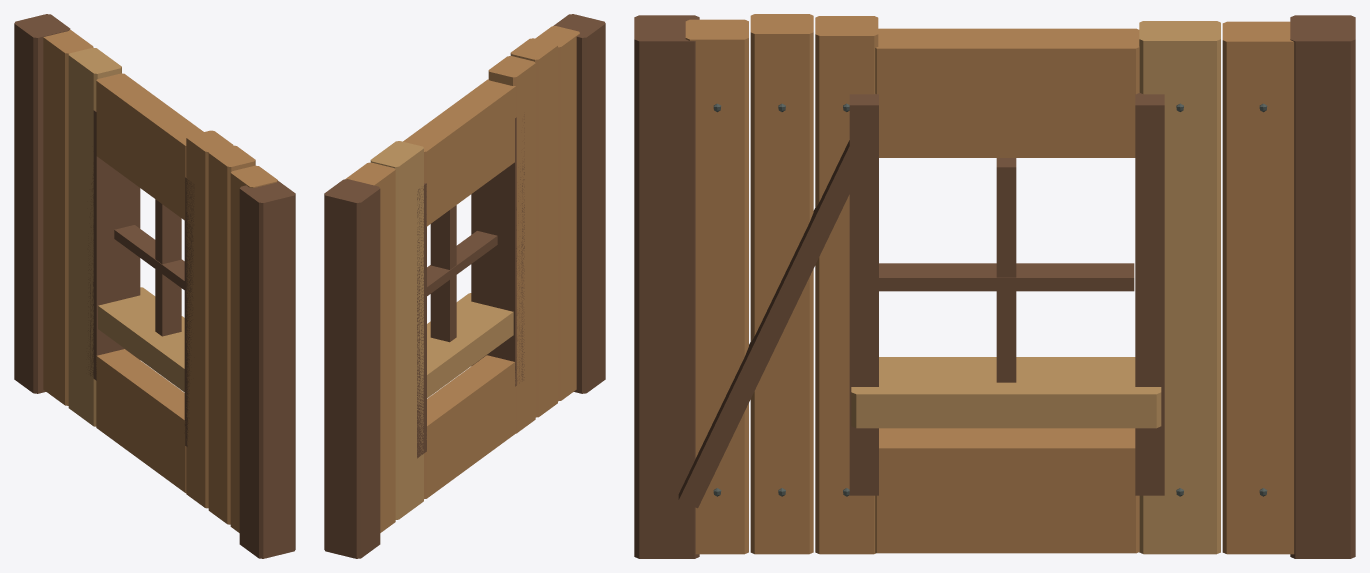
The model's file is wood_right.glb.
3 renders of one model, left to right at view 1: azimuth 30°, elevation 25°; view 2: azimuth 150°, elevation 25°; view 3: azimuth 270°, elevation 25°, orthographic. The views are drawn at different scales.
Parts seen in each view (by area): view 1: wood_right; view 2: wood_right; view 3: wood_right.
Part boxes in pixels (box(x1,y1,x2,y2)): wood_right: box(14, 14, 295, 558); wood_right: box(324, 14, 605, 558); wood_right: box(634, 14, 1355, 558).
Size of the model in its own units: 0.064 by 0.3548 by 0.442.
